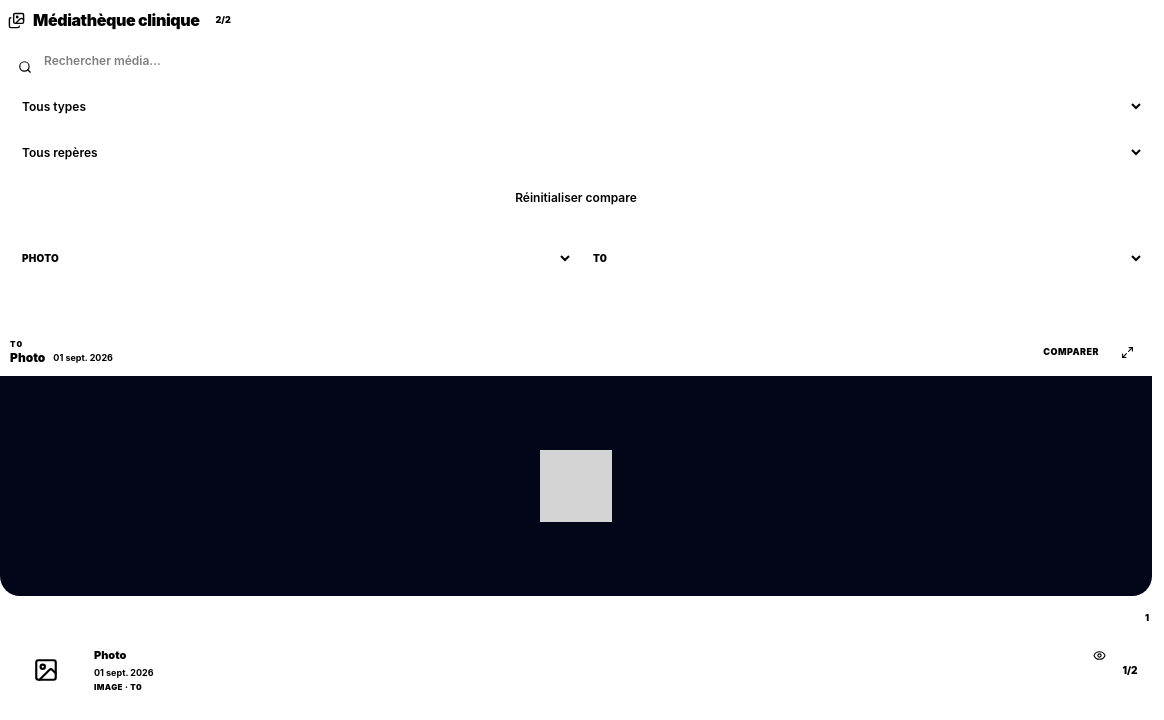
Test: PatientMediaTimeline C7 › pushes search to the server so a match beyond the first page is discoverable
Expected: the text "2/2" is shown, [216, 14, 231, 25]
Type "radio" into the field named "Rechercher un média".
click(576, 60); type("radio")  # box [8, 40, 1144, 80]
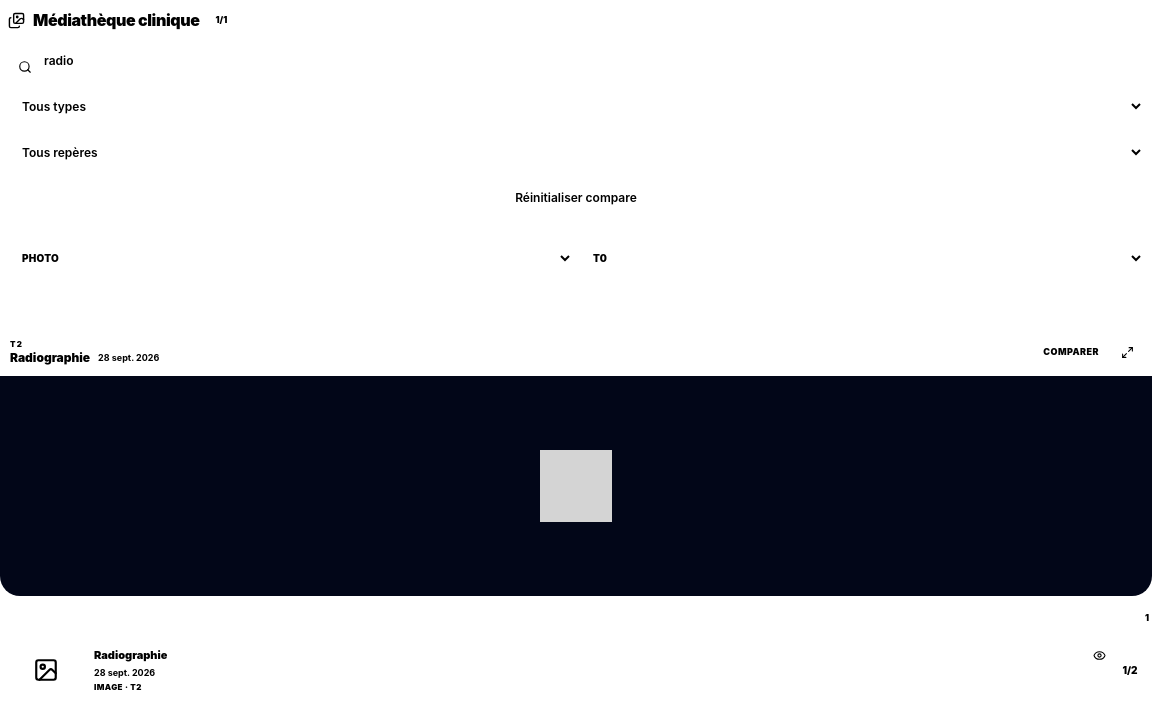
Expected: the text "Radiographie" is shown, [94, 647, 167, 664]
Now the text "1/1" is shown, box [216, 14, 227, 25]
